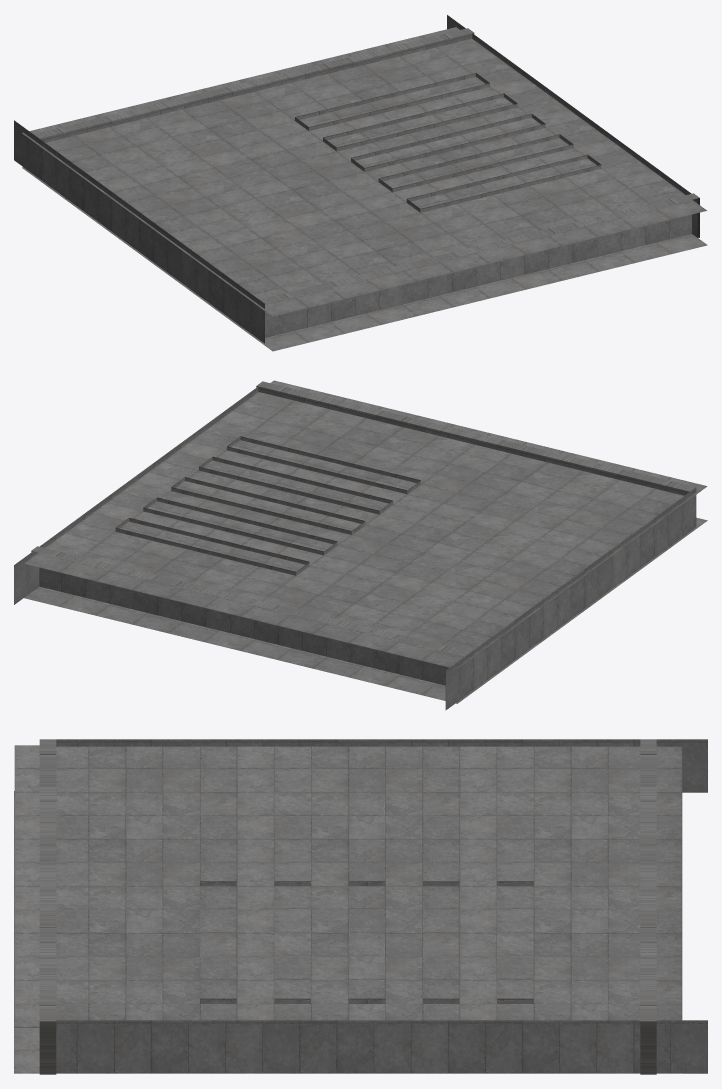
The model's file is brutalist_interior.glb.
3 renders of one model, top to bottom at view 1: azimuth 30°, elevation 25°; view 2: azimuth 150°, elevation 25°; view 3: azimuth 270°, elevation 25°, orthographic. The views are drawn at different scales.
Visible parts, largest first — view 1: Plane.044; view 2: Plane.044; view 3: Plane.044.
Boxes of the visible parts, box(x1,y1,x2,y2) form: Plane.044: box(14, 15, 707, 351); Plane.044: box(14, 380, 707, 710); Plane.044: box(14, 739, 707, 1074).
Bounding box in the file's own units: 40.8 × 3.58 × 42.2.
Materials: 1 (1 with a texture image).
